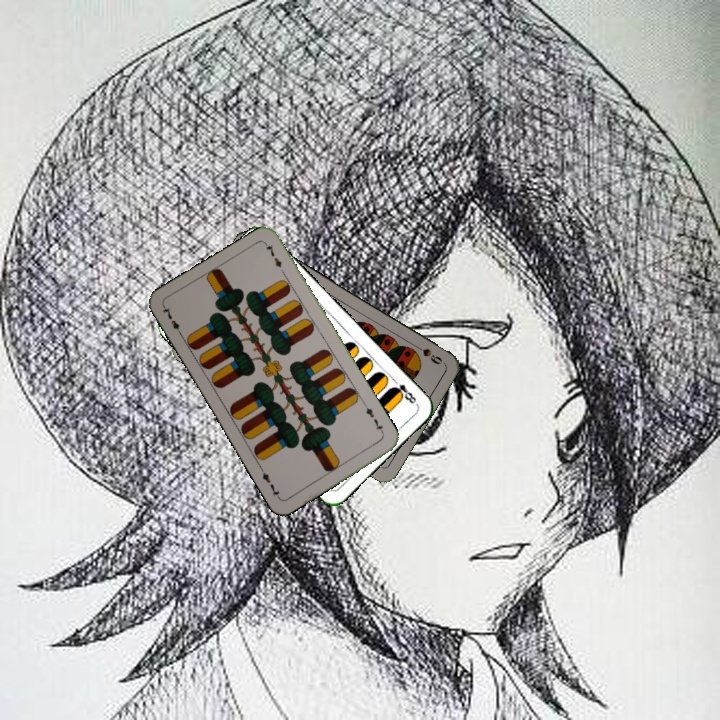E7: (361, 401, 387, 438), (159, 302, 185, 339)
E8: (388, 374, 419, 406)
S9: (409, 339, 445, 367)
